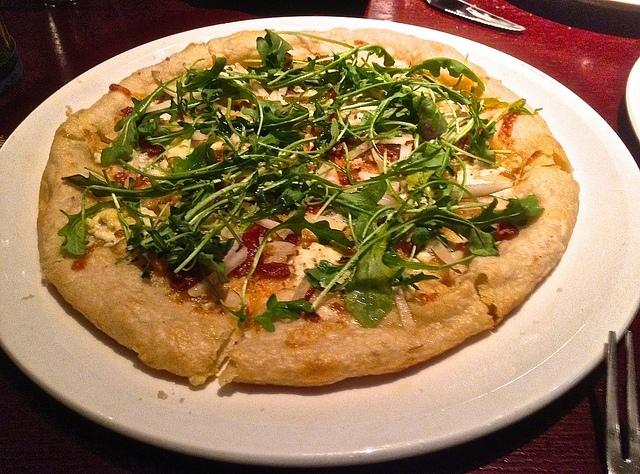onion: (188, 238, 248, 298), (450, 165, 516, 200), (392, 286, 416, 331), (431, 242, 462, 274), (254, 218, 295, 242), (264, 241, 296, 265), (348, 140, 379, 160), (476, 196, 509, 210), (399, 134, 414, 160), (224, 292, 240, 307), (98, 218, 115, 232), (277, 87, 288, 102), (268, 90, 278, 100)
